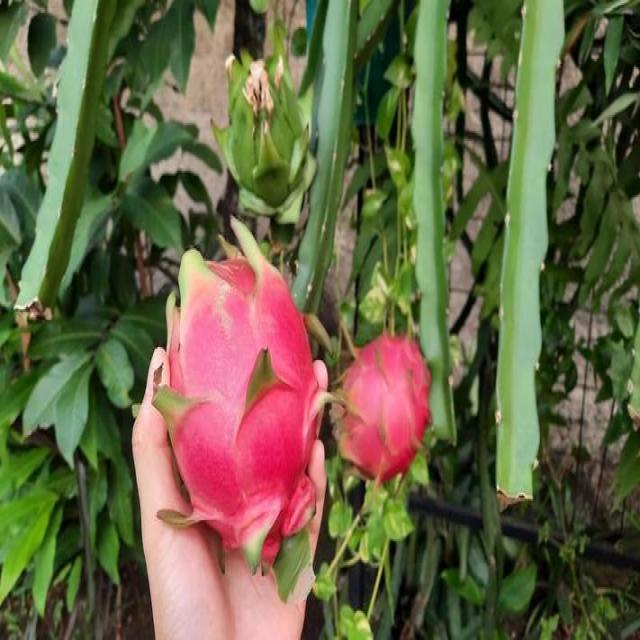dragon-fruit: (167, 256, 320, 552), (338, 333, 434, 481)
